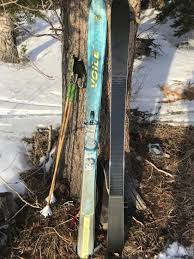skis: (75, 1, 132, 259)
